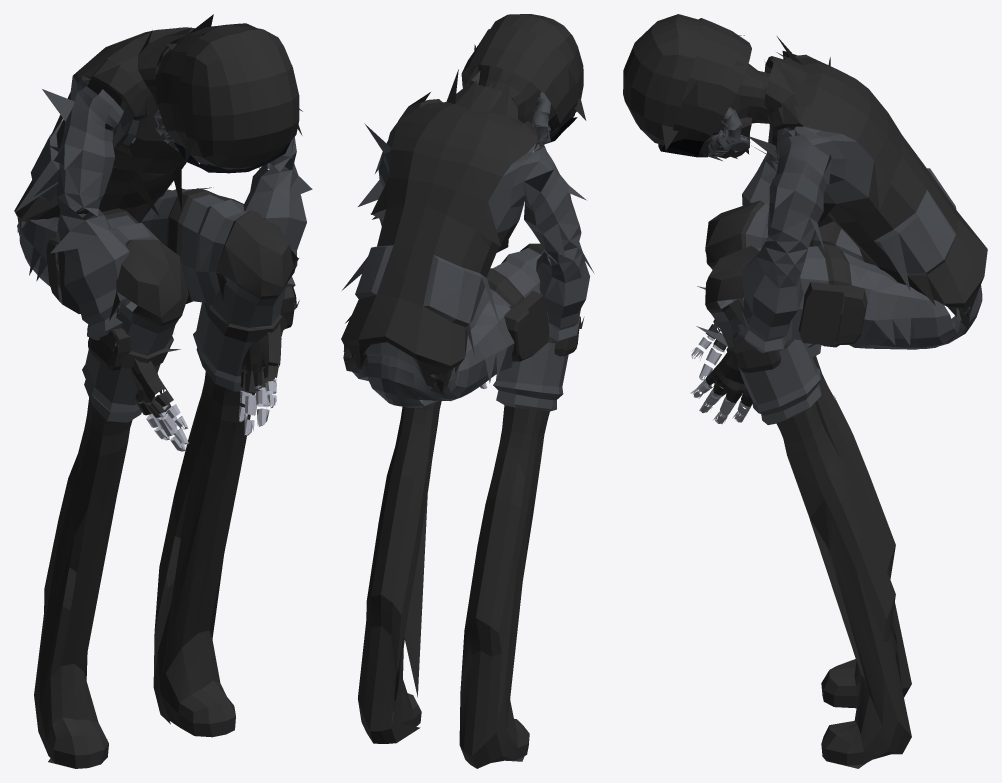
Rendered from frozen-11.glb.
3 views of the same model, side by side, from view 1: azimuth 30°, elevation 25°; view 2: azimuth 150°, elevation 25°; view 3: azimuth 270°, elevation 25° (orthographic). The views are drawn at different scales.
Parts seen in each view (by area): view 1: near, far; view 2: near, far; view 3: near, far.
Part boxes in pixels (x1=…): near: x1=14, y1=23, x2=300, y2=768; far: x1=15, y1=14, x2=312, y2=767; near: x1=341, y1=14, x2=584, y2=768; far: x1=341, y1=15, x2=594, y2=761; near: x1=623, y1=14, x2=983, y2=765; far: x1=625, y1=23, x2=987, y2=768.
Size of the model in its own units: 0.5568 by 1.58 by 0.7391.
Materials: 1 (1 with a texture image).
